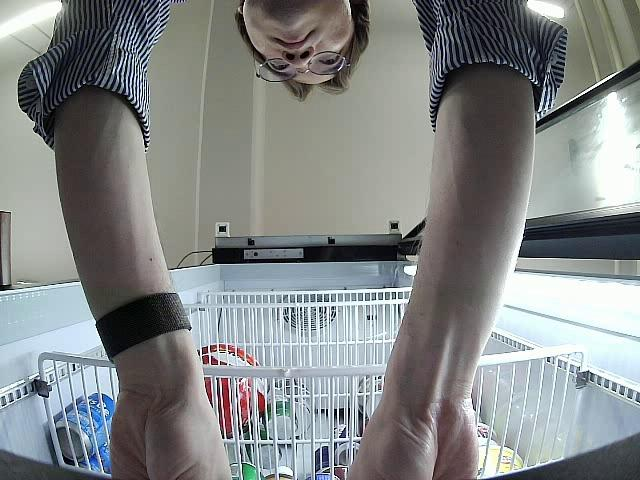00_hand: (106, 394, 231, 480), (341, 408, 481, 480)
